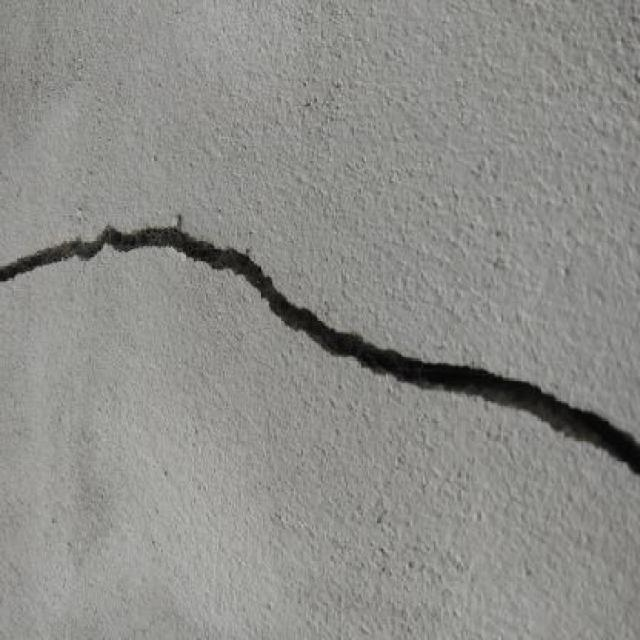GRIETA: (0, 226, 639, 475)
